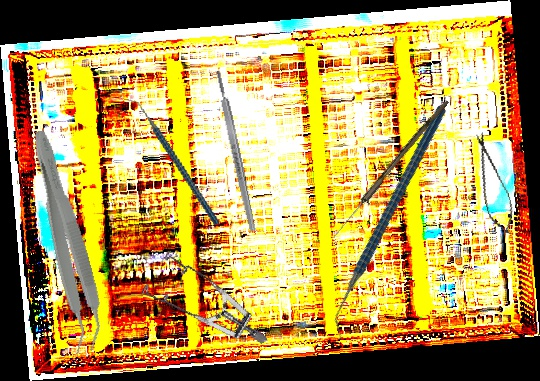Chopper: (270, 104, 511, 341), (125, 84, 220, 239)
Micro Scissor: (466, 130, 520, 239)
Scalpel Handle: (214, 69, 257, 233)
Speculum: (130, 230, 268, 381)
Surgical Spoon: (330, 97, 450, 241)
Tissue Forceps: (17, 127, 112, 355)
